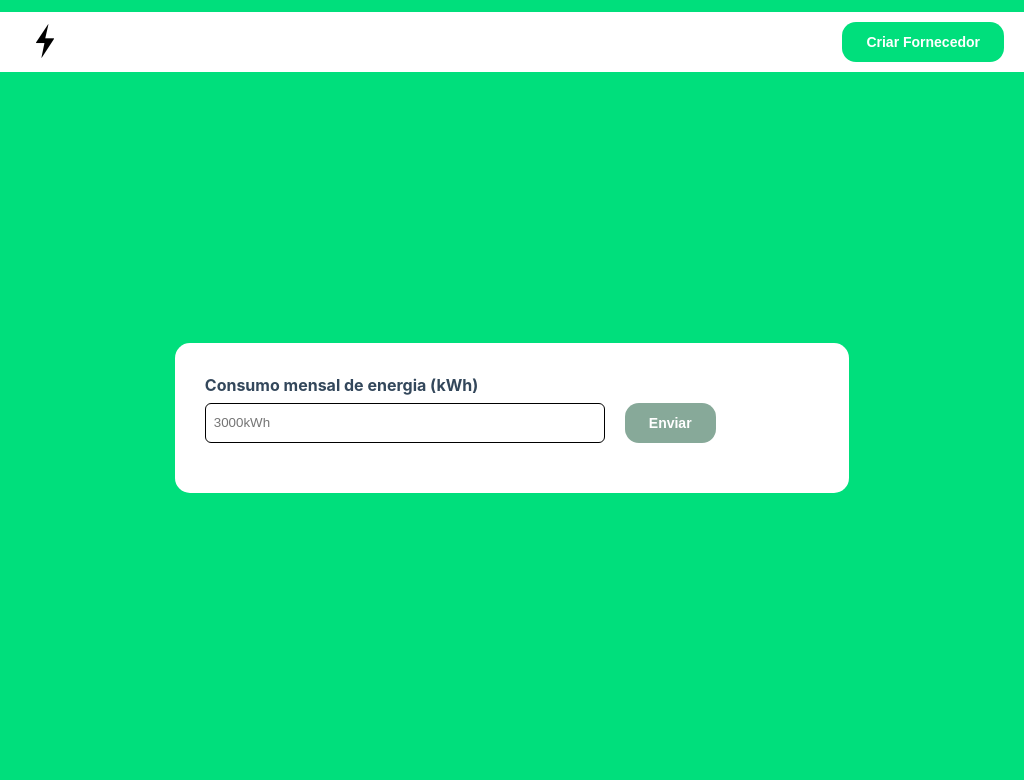
Test: renders FindProvider and fetches providers
In the field labelled "Consumo mensal de energia (kWh)": x=405, y=423 214,412 -> 596,434, type "1000"
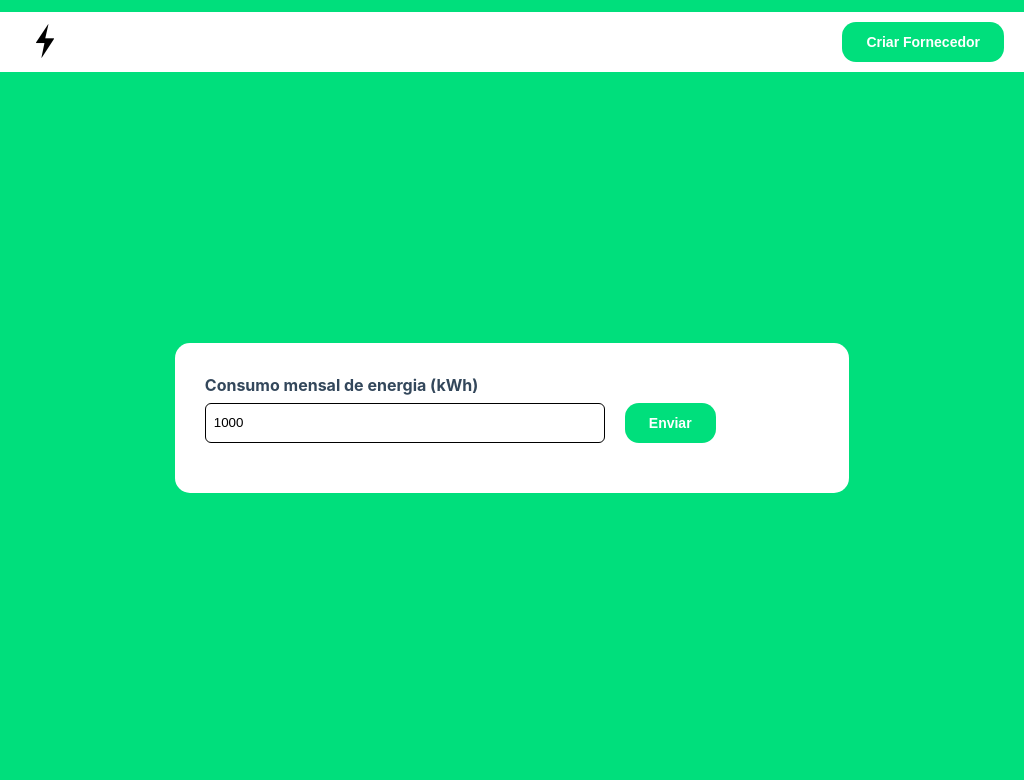
Click the button "Enviar": x=670, y=423 625,403 -> 716,443
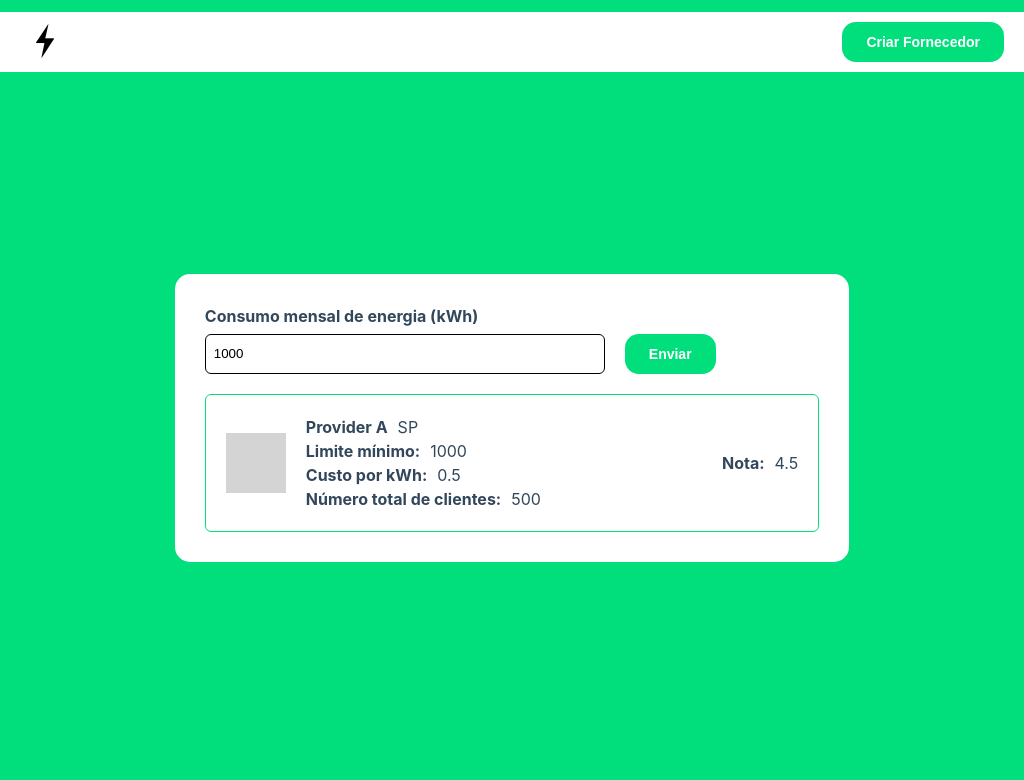
Expected: the text "Provider A" is shown, 306,415 -> 388,439
